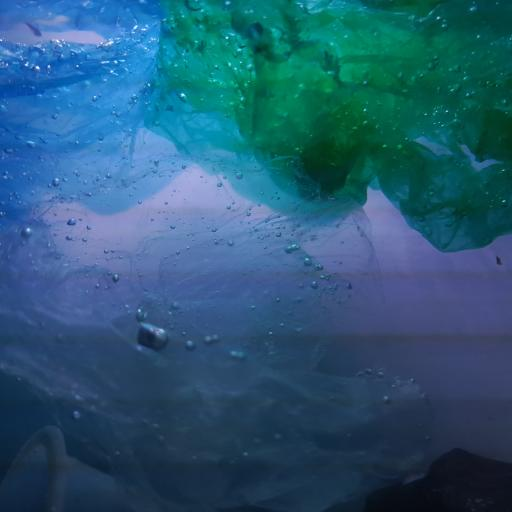plastic_bag: (0, 205, 437, 512), (154, 0, 511, 258), (0, 0, 172, 214)
plastic_cup: (0, 423, 114, 512)
